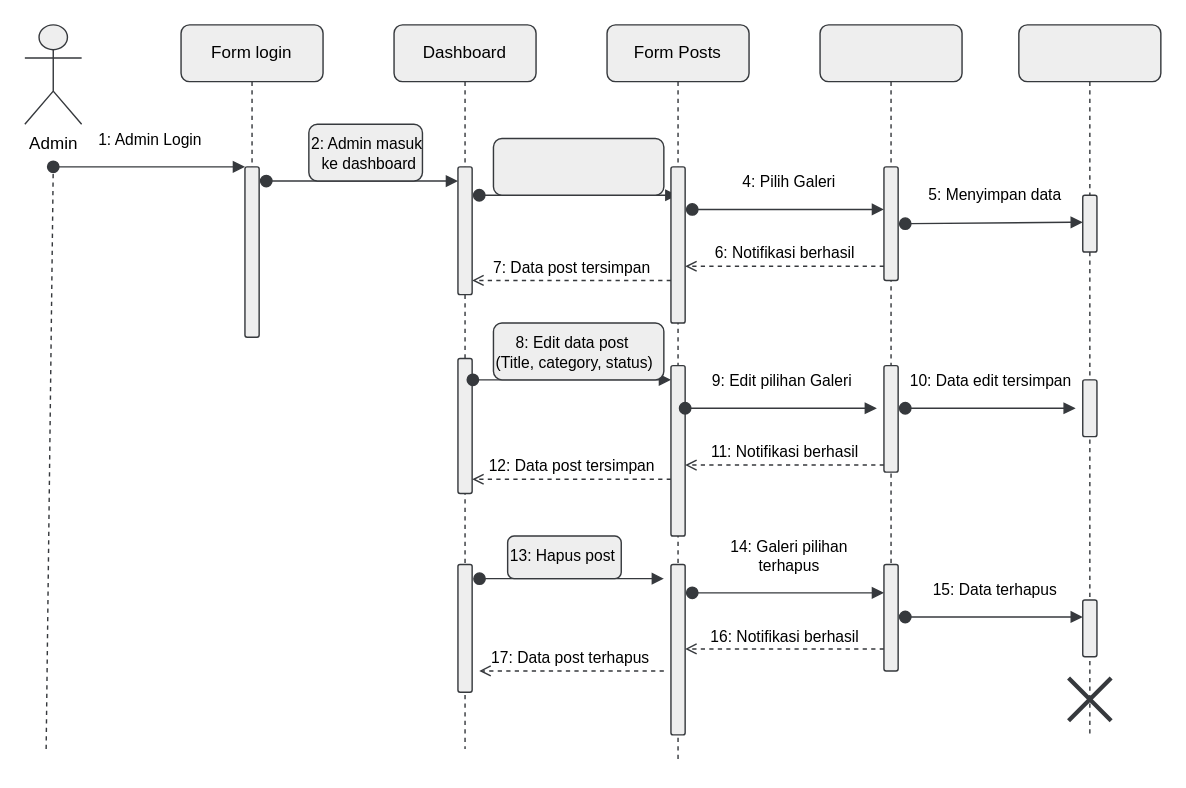
This 1186x788 diagram has some shape labels left out. Each missing label, with the box of its shape:
3: Isi data post (Title, category, status): (492, 137, 664, 195)
AddGallery: (819, 23, 962, 621)
DB: (1017, 23, 1161, 735)
